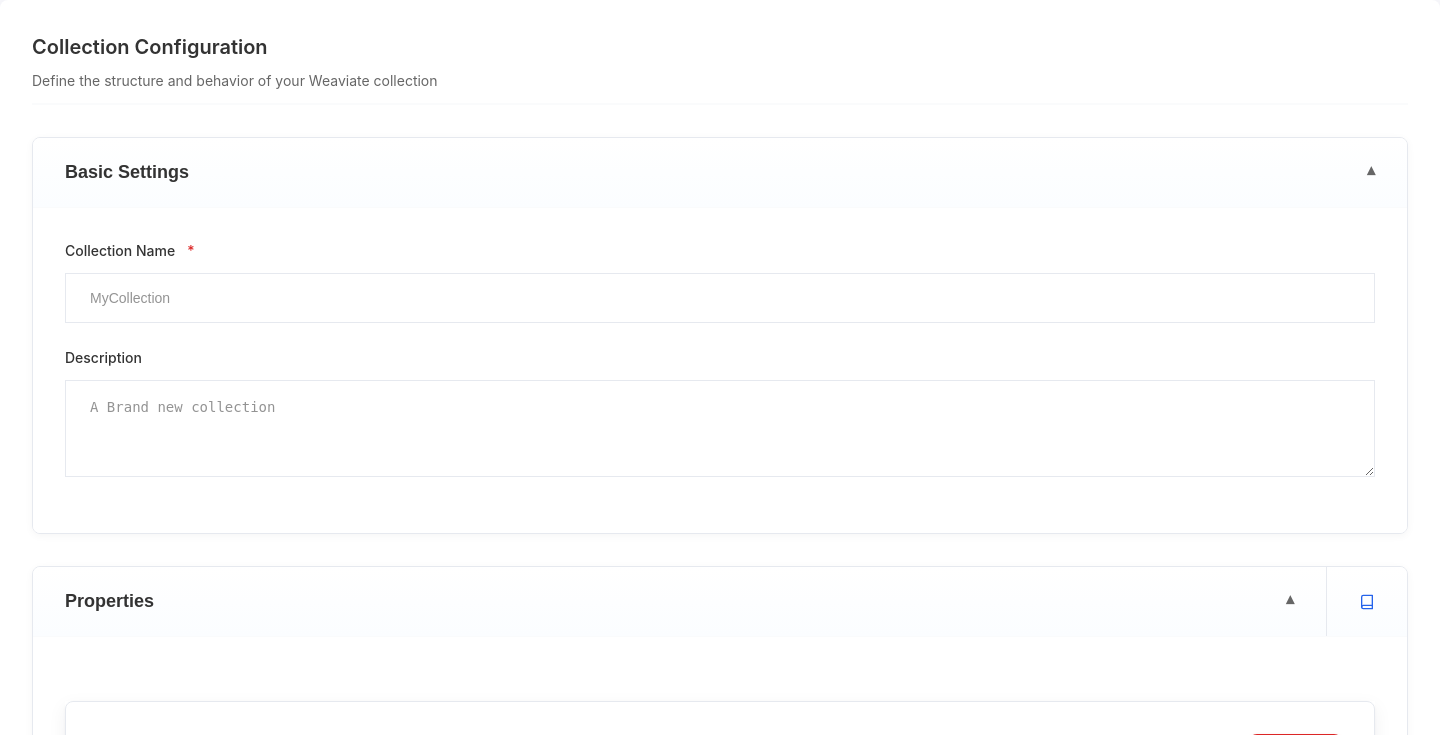
Scenario: Collection Name Validation › should show error for names with invalid characters
In the field labelled "Collection Name": (720, 298) [65, 273, 1375, 323], type "My-Collection"
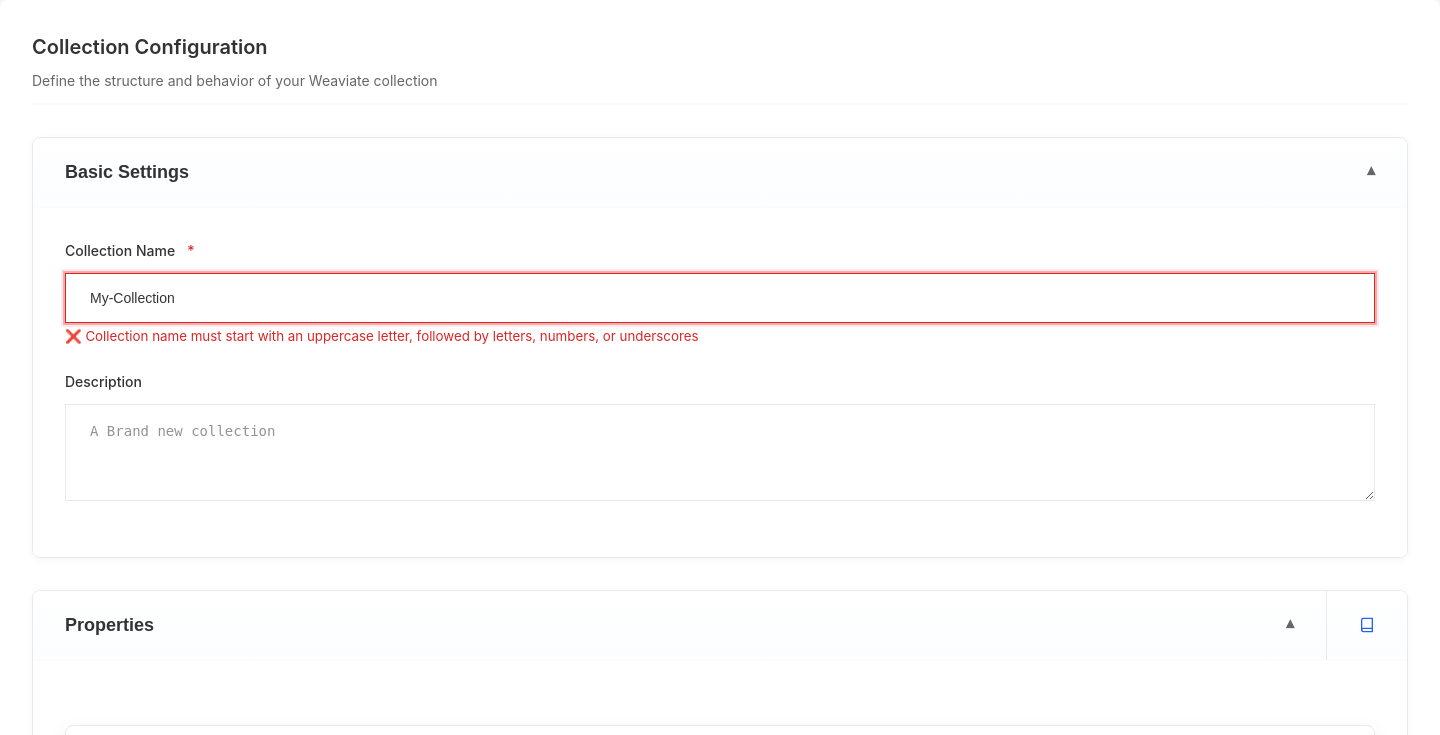
expect the text "must start with an uppercase letter" is shown: met, box [85, 328, 699, 344]
